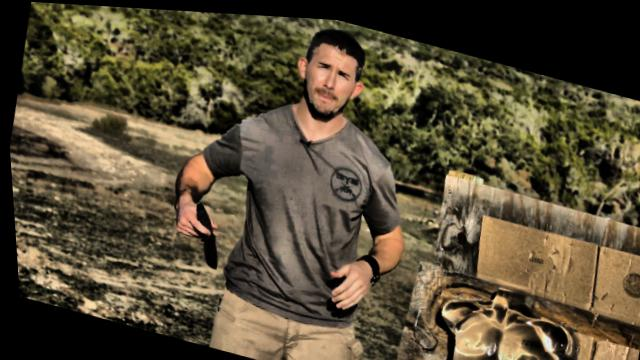knife: (162, 190, 230, 272)
